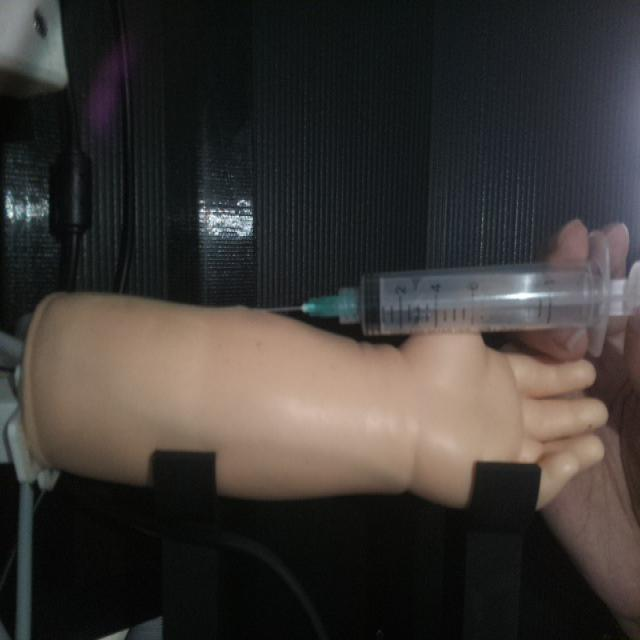Below 15 degrees: (259, 249, 639, 348)
